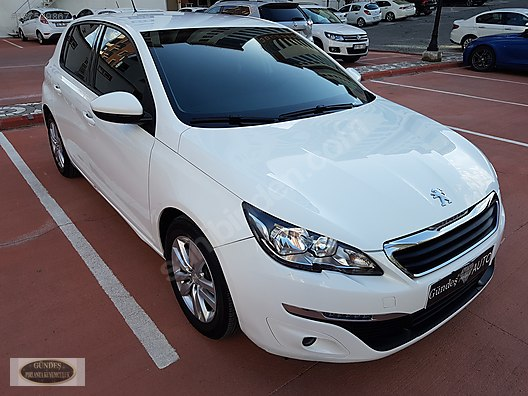peugeot: (35, 14, 516, 361)
